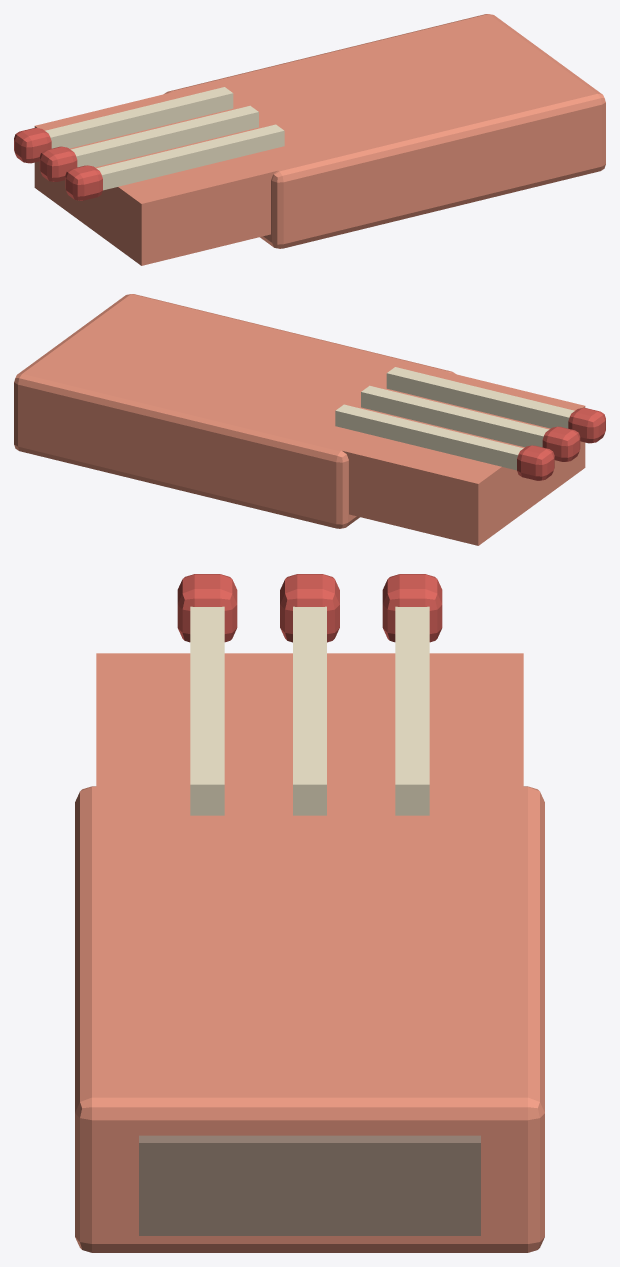
Rendered from match.glb.
3 renders of one model, top to bottom at view 1: azimuth 30°, elevation 25°; view 2: azimuth 150°, elevation 25°; view 3: azimuth 270°, elevation 25°, orthographic. The views are drawn at different scales.
Parts seen in each view (by area): view 1: match; view 2: match; view 3: match.
Part boxes in pixels (box(x1,y1,x2,y2)): match: box(14, 14, 605, 265); match: box(14, 294, 605, 545); match: box(75, 574, 544, 1252).
Bounding box in the file's own units: 0.139 × 0.0255 × 0.055.
